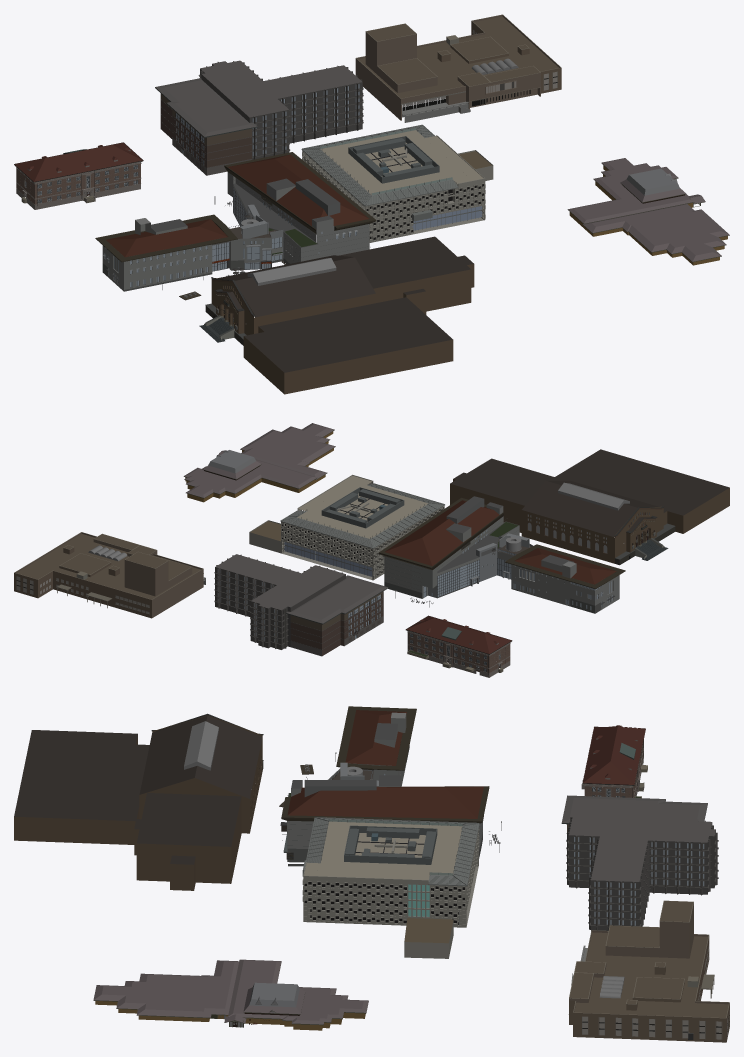
3 renders of one model, top to bottom at view 1: azimuth 30°, elevation 25°; view 2: azimuth 150°, elevation 25°; view 3: azimuth 270°, elevation 25°, orthographic. The views are drawn at different scales.
Parts seen in each view (by area): view 1: opaque, glass; view 2: opaque, glass; view 3: opaque, glass.
Boxes of the visible parts, x1=… form: opaque: x1=14, y1=14, x2=729, y2=394; glass: x1=25, y1=30, x2=557, y2=323; opaque: x1=14, y1=423, x2=729, y2=677; glass: x1=16, y1=507, x2=624, y2=671; opaque: x1=14, y1=706, x2=729, y2=1042; glass: x1=220, y1=771, x2=729, y2=1039.
Bounding box in the file's own units: 294 × 31.1 × 299.
14 materials, 5 textured.
